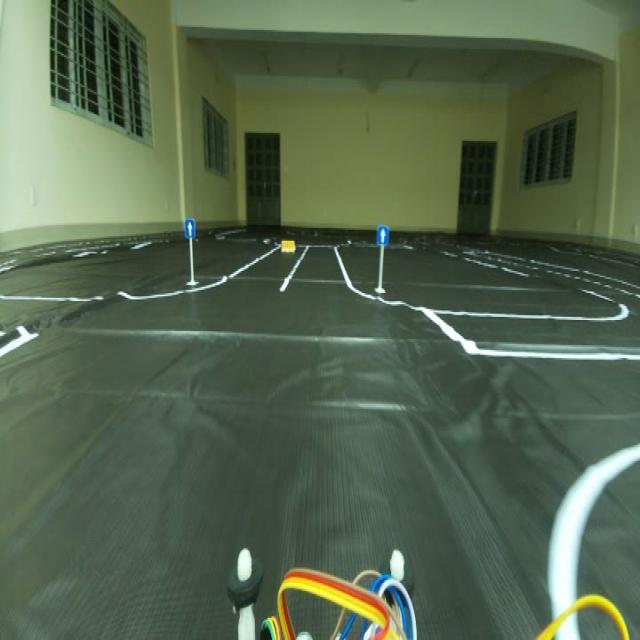onewayroad: (183, 216, 197, 242), (376, 220, 389, 247)
roadblock: (280, 234, 298, 256)
